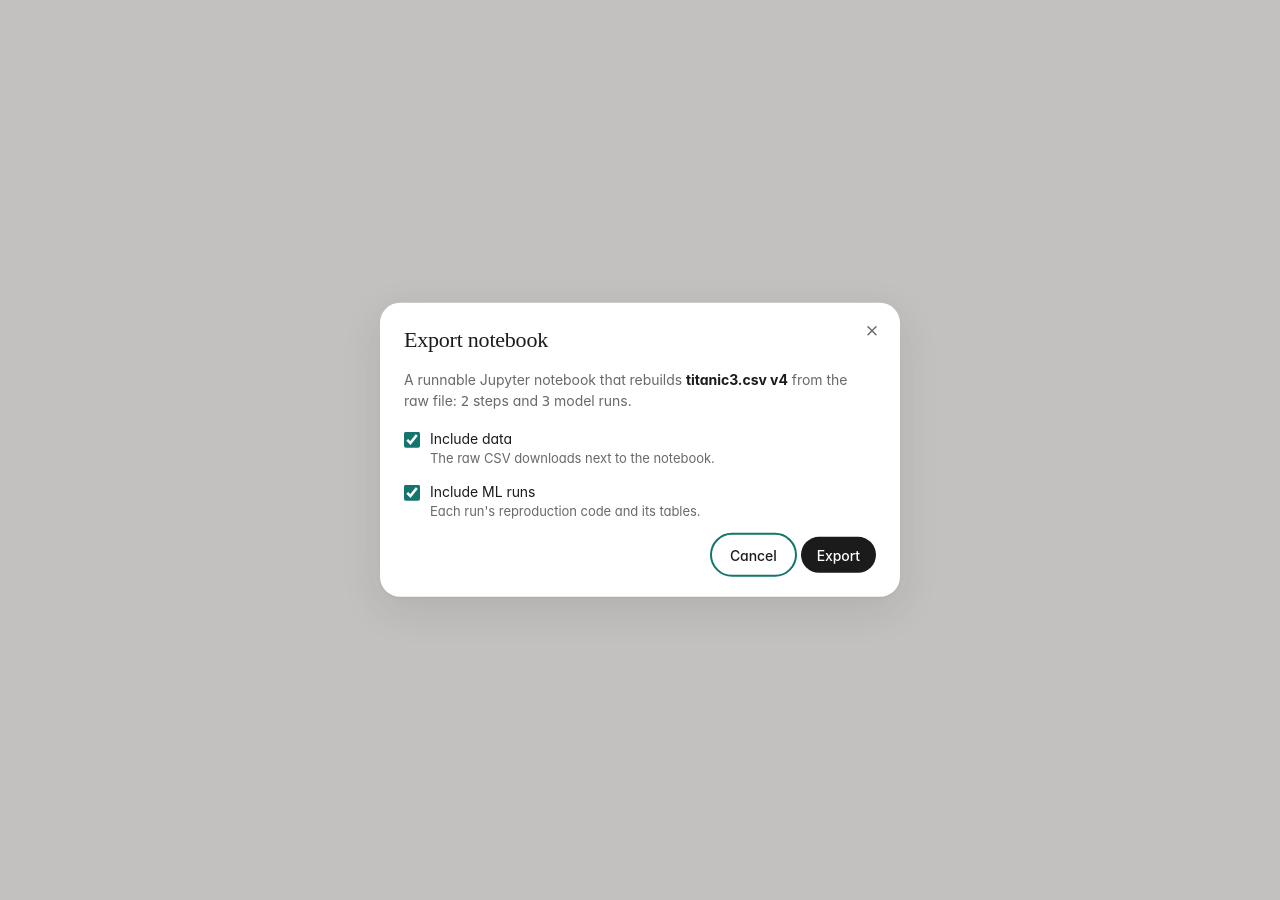
it: export dialog › asks the preview again when an option changes, without sending unset options
Step 1. Click the checkbox labelled "Include ML runs Each run's reproduction code and its tables." → (412,493), box [404,485,420,501]
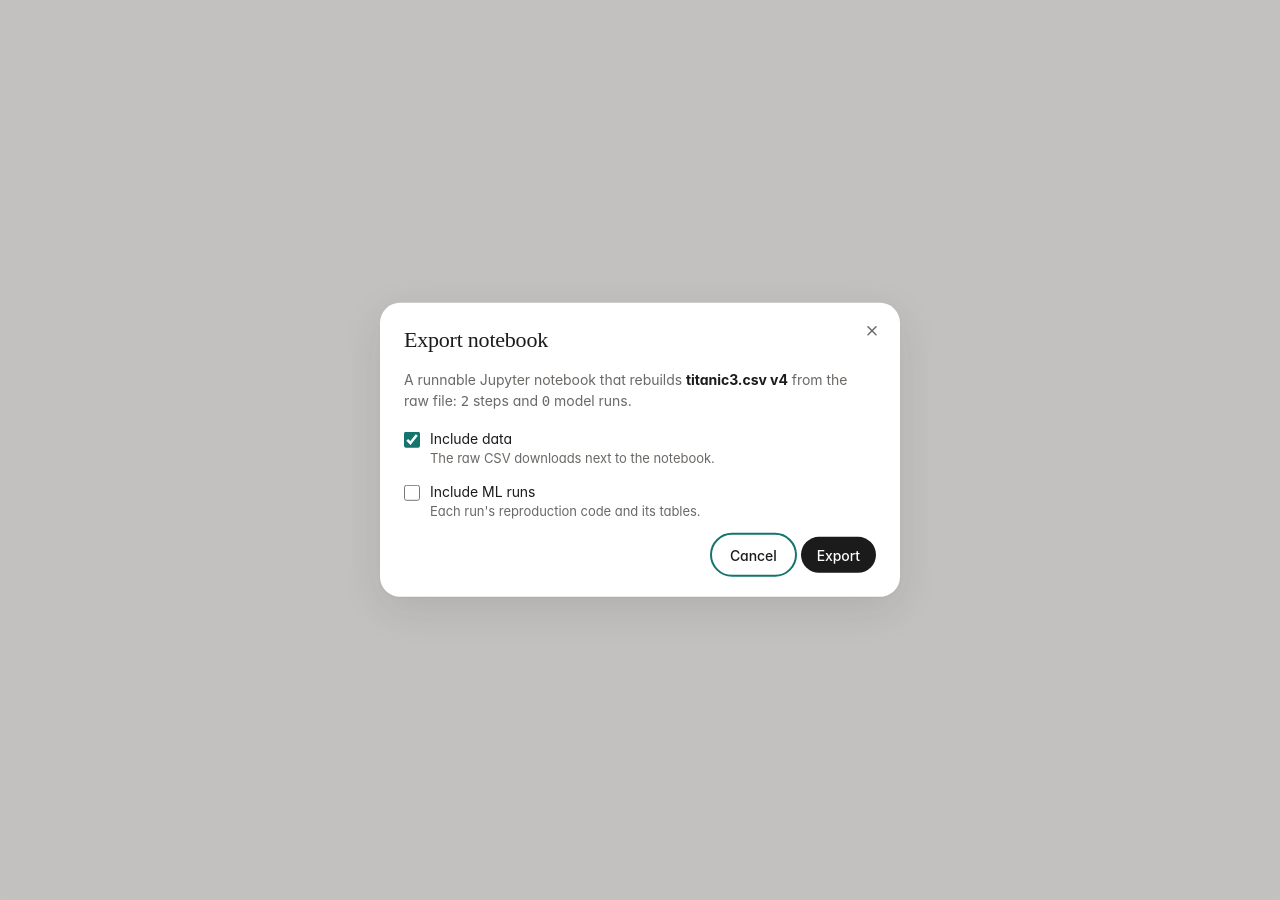
Now the text "0 model runs" is shown, box [404,369,876,412]
